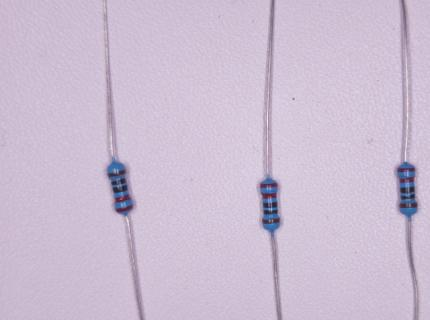Black band: (111, 178, 126, 186), (113, 185, 128, 193), (400, 186, 414, 193), (263, 202, 277, 208), (401, 194, 415, 199), (264, 210, 278, 214)
Brown band: (108, 169, 126, 177), (399, 203, 418, 209), (262, 218, 280, 224)
Red band: (115, 194, 131, 203), (115, 204, 133, 212), (261, 192, 277, 199), (399, 177, 415, 184), (397, 167, 415, 173), (260, 183, 278, 188)
